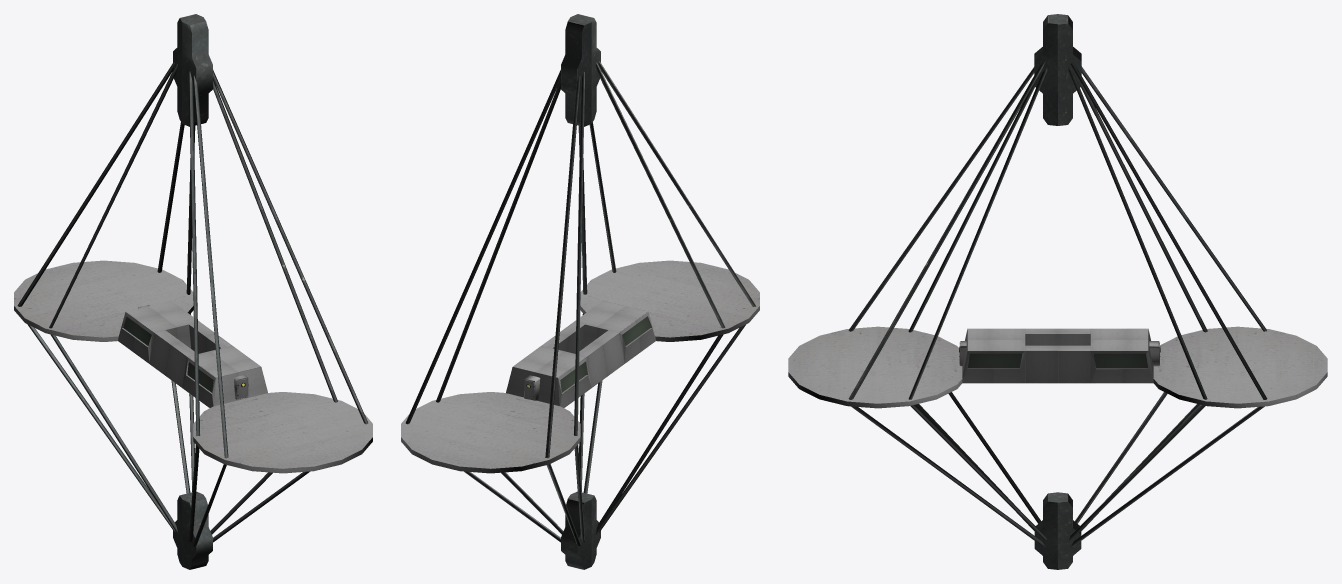
The model's file is elevator_lod1.FBX.
The picture shows the model from 3 angles, left to right: view 1: azimuth 30°, elevation 25°; view 2: azimuth 150°, elevation 25°; view 3: azimuth 270°, elevation 25°; orthographic projection.
Parts seen in each view (by area): view 1: Box515; view 2: Box515; view 3: Box515.
Part boxes in pixels (box(x1,y1,x2,y2)): Box515: box(14, 14, 372, 569); Box515: box(401, 14, 759, 569); Box515: box(788, 14, 1327, 569).
Bounding box in the file's own units: 708 × 2334 × 2090.
Materials: 1 (1 with a texture image).
